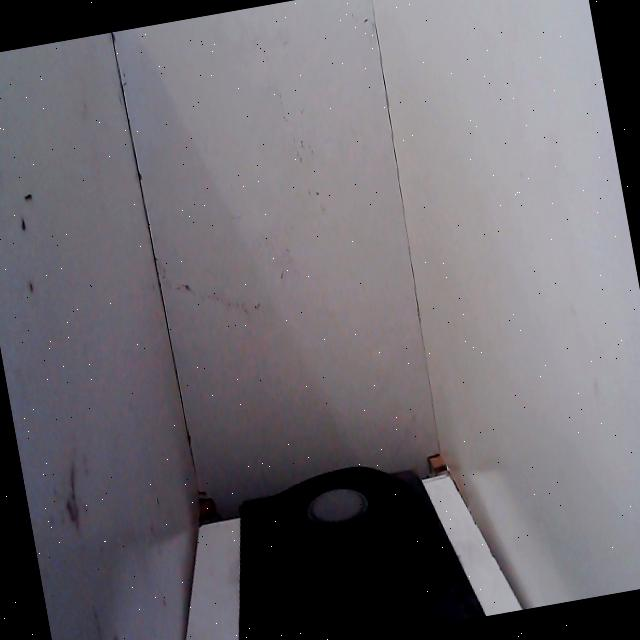plastico: (237, 439, 452, 639)
